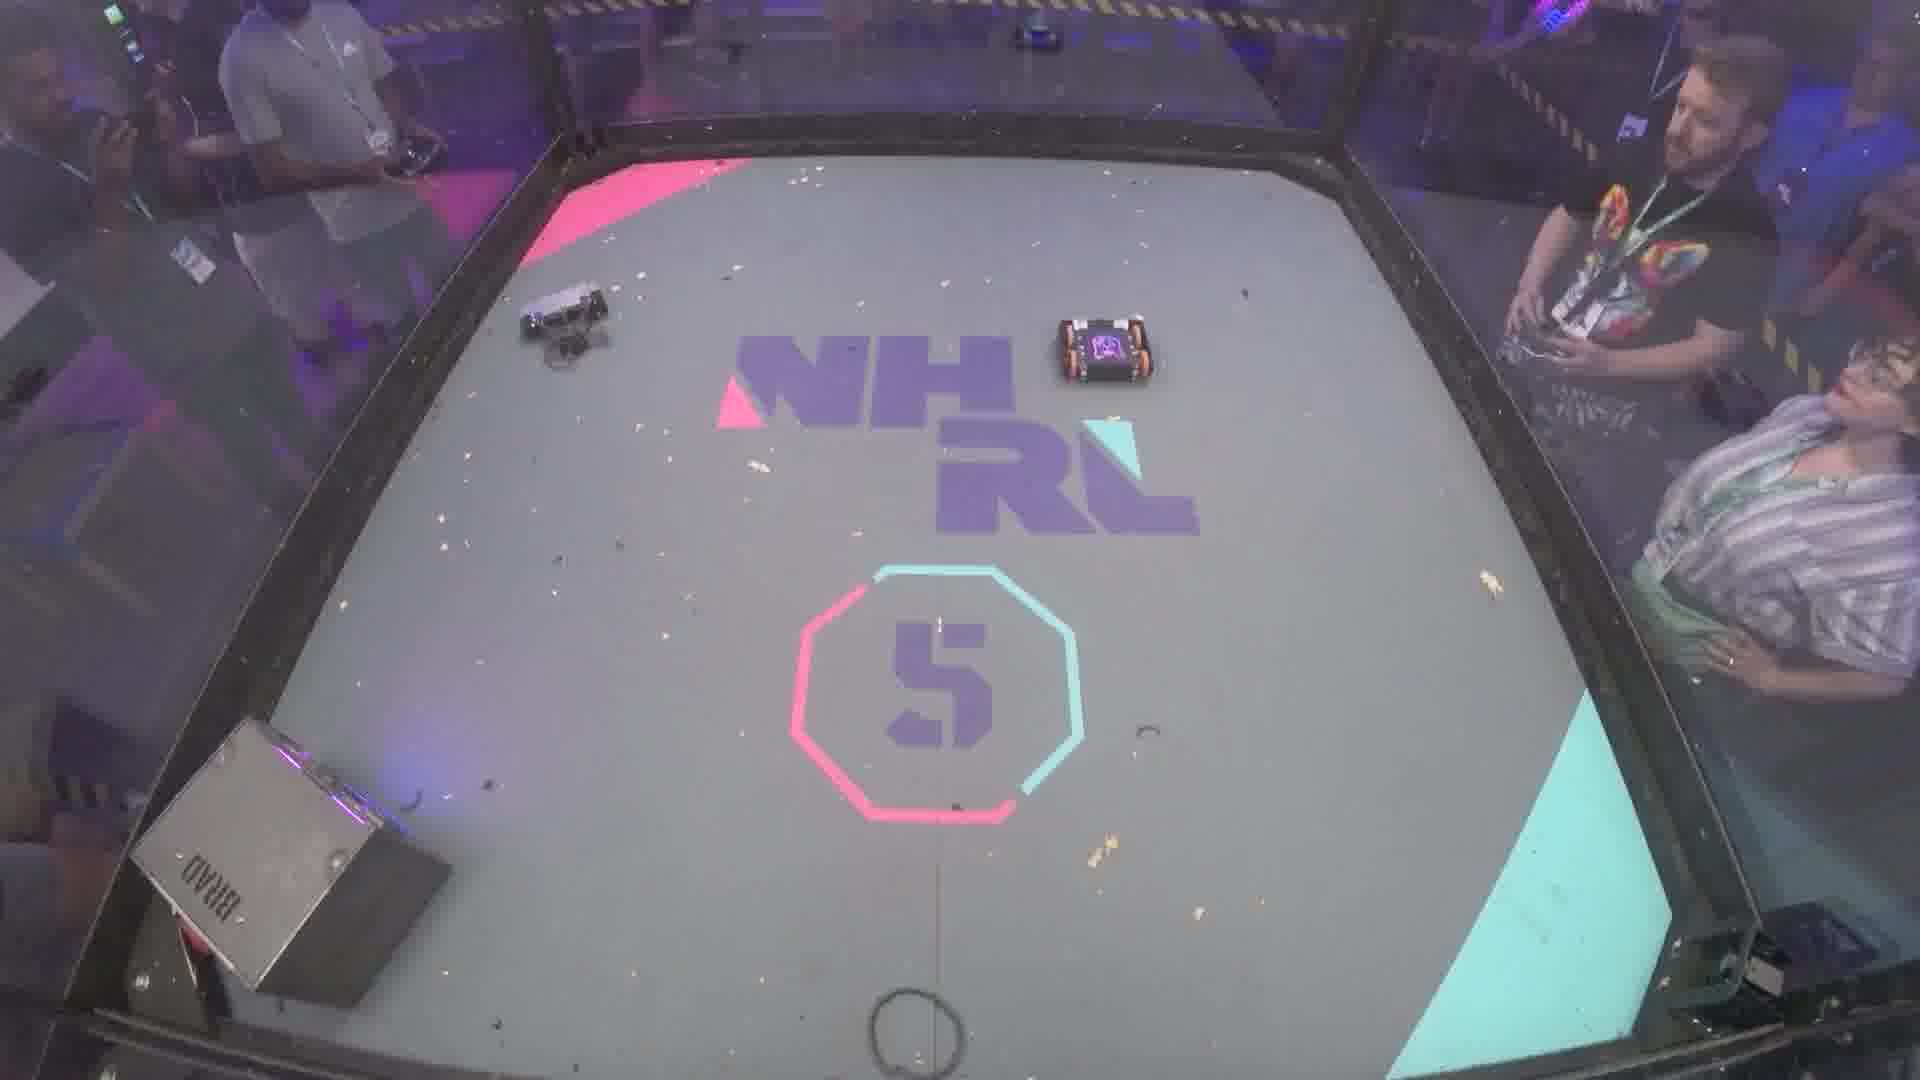belt: (865, 992, 963, 1080)
combatbot: (1059, 316, 1158, 388), (521, 291, 605, 334)
housebot: (125, 715, 455, 1015)
